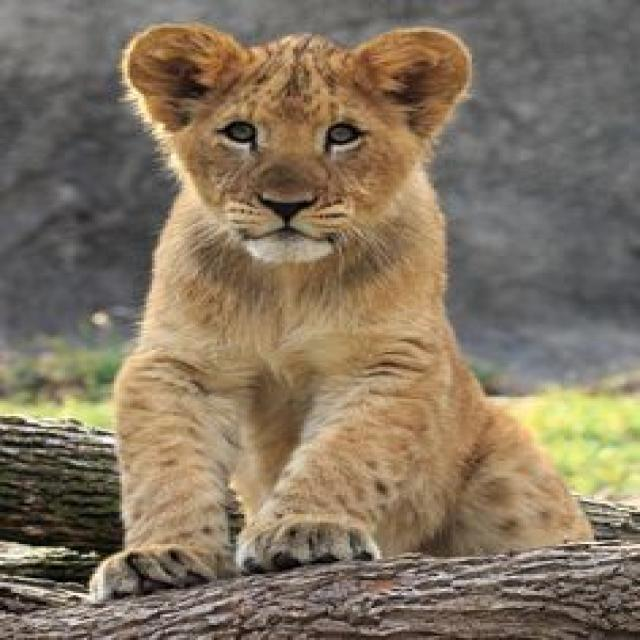Carnivorous: (87, 21, 594, 604)
